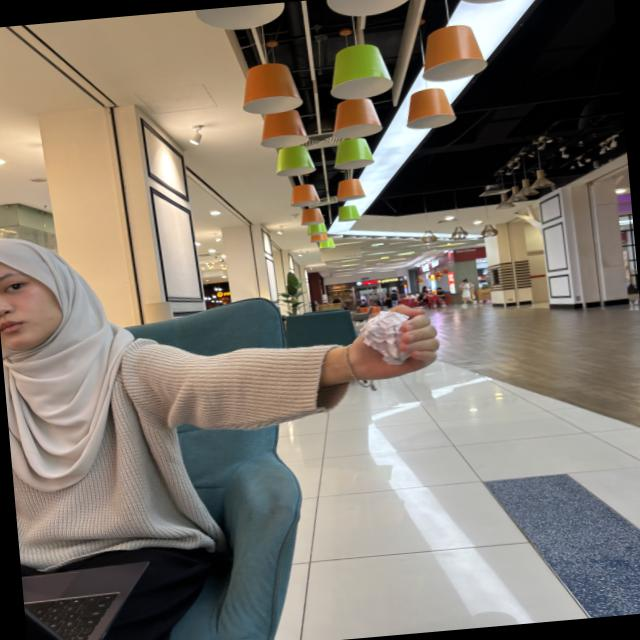crumpled_paper: (356, 304, 419, 372)
